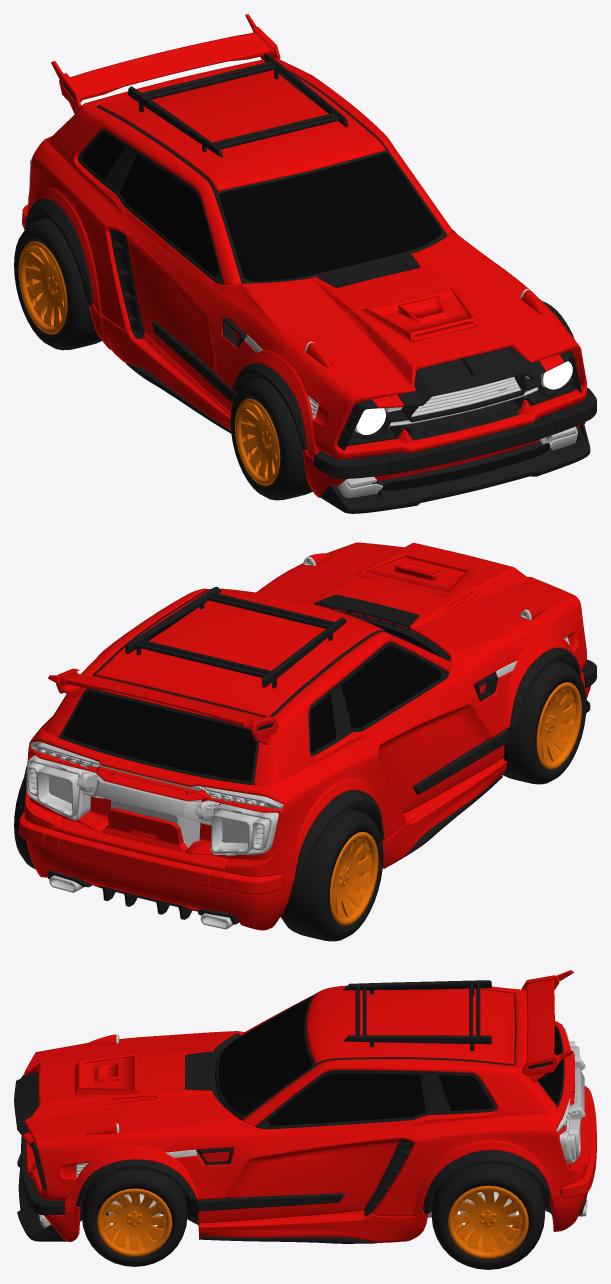
Rendered from fennec.gltf.
The picture shows the model from 3 angles, top to bottom: view 1: azimuth 30°, elevation 25°; view 2: azimuth 150°, elevation 25°; view 3: azimuth 270°, elevation 25°; orthographic projection. The views are drawn at different scales.
Parts seen in each view (by area): view 1: Body, Paint, Window, RB Tyre, RF tyre, Chassis, Headlights; view 2: Body, Paint, Window, Chassis, RB Tyre, RF tyre, LB Tyre; view 3: Body, Paint, Window, LB Tyre, LF Tyre, Chassis.
Boxes of the visible parts, x1,y1,x2,y2 form: Body: (22, 14, 587, 497); Paint: (25, 54, 596, 513); Window: (81, 133, 441, 281); RB Tyre: (14, 218, 101, 350); RF tyre: (230, 377, 312, 500); Chassis: (29, 158, 577, 498); Headlights: (356, 361, 572, 434); Body: (18, 542, 590, 930); Paint: (22, 586, 596, 924); Window: (63, 621, 440, 781); Chassis: (26, 556, 569, 929); RB Tyre: (280, 808, 383, 941); RF tyre: (502, 660, 586, 784); LB Tyre: (14, 778, 35, 868); Body: (22, 970, 596, 1242); Paint: (14, 980, 586, 1243); Window: (218, 998, 562, 1125); LB Tyre: (431, 1163, 544, 1269); LF Tyre: (81, 1169, 187, 1266); Chassis: (39, 1028, 587, 1228).
Bounding box in the file's own units: 0.2534 × 0.1865 × 0.4866.
